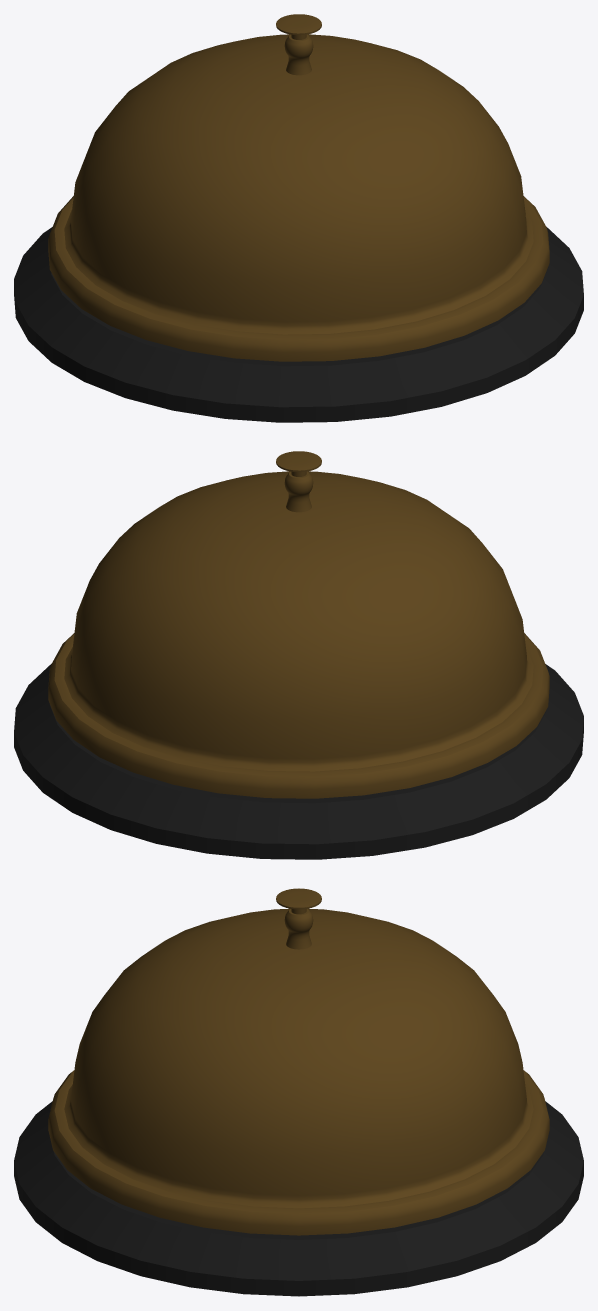
Rendered from Desk_Call_Bell.gltf.
3 renders of one model, top to bottom at view 1: azimuth 30°, elevation 25°; view 2: azimuth 150°, elevation 25°; view 3: azimuth 270°, elevation 25°, orthographic.
Visible parts, largest first — view 1: Cylinder.001; view 2: Cylinder.001; view 3: Cylinder.001.
Boxes of the visible parts, x1,y1,x2,y2 form: Cylinder.001: (14,14,583,422); Cylinder.001: (14,451,583,859); Cylinder.001: (14,888,583,1296).
Bounding box in the file's own units: 0.05 × 0.027 × 0.05.
